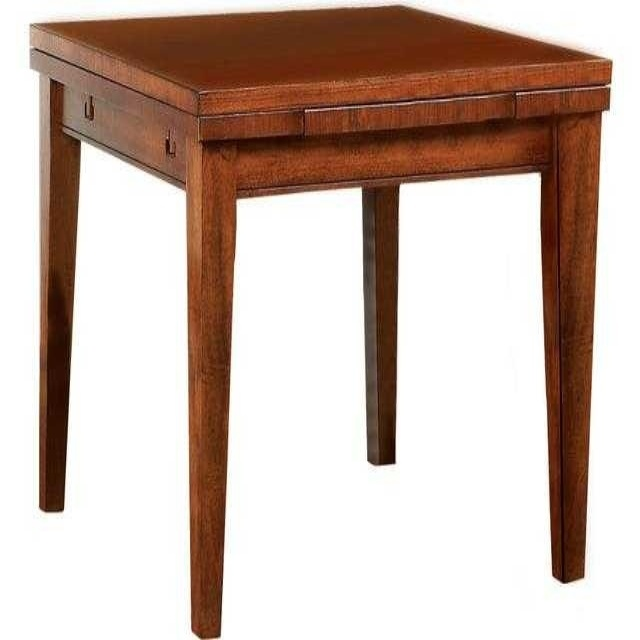obstacle: (30, 6, 611, 636)
